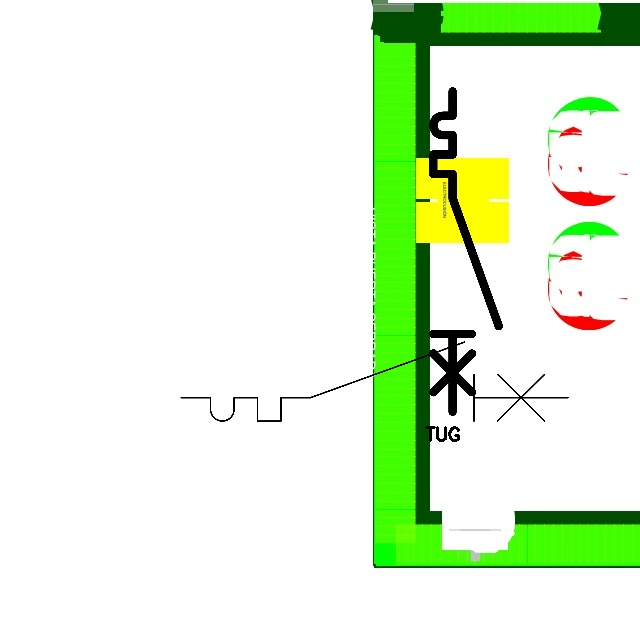interruptor_termomagnetico: (171, 332, 578, 431), (425, 83, 507, 420)
